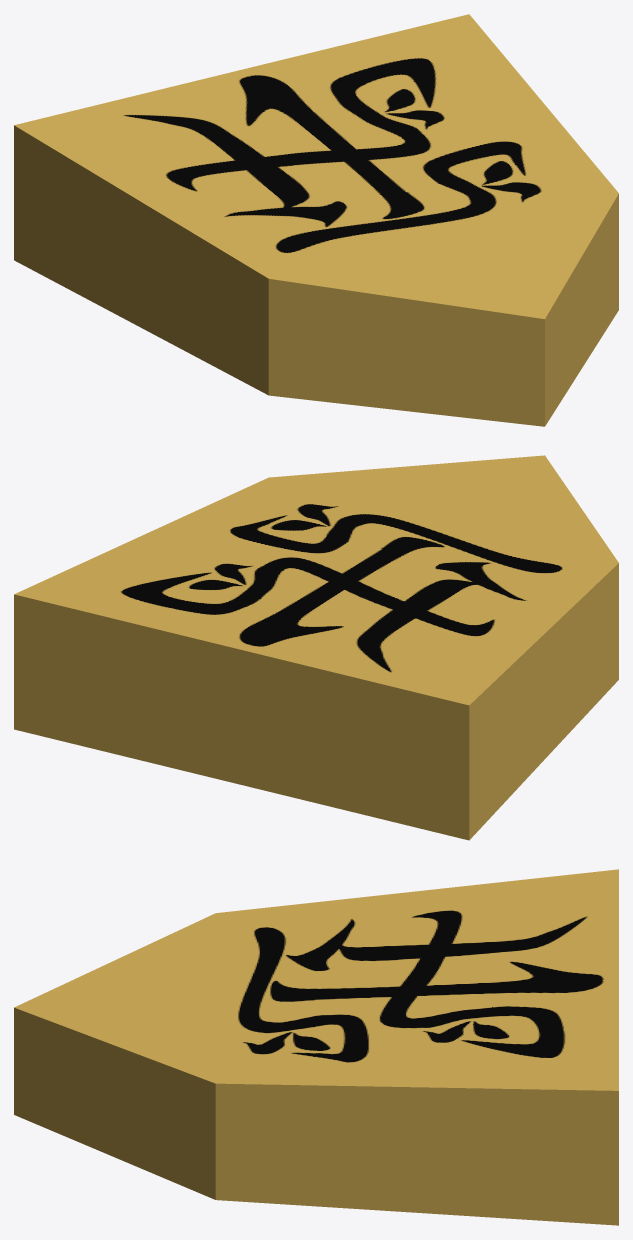
File: hisya.obj
The picture shows the model from 3 angles, top to bottom: view 1: azimuth 30°, elevation 25°; view 2: azimuth 150°, elevation 25°; view 3: azimuth 270°, elevation 25°; orthographic projection.
Visible parts, largest first — view 1: Cube.008_Cube.024; view 2: Cube.008_Cube.024; view 3: Cube.008_Cube.024.
Boxes of the visible parts, x1,y1,x2,y2 form: Cube.008_Cube.024: [14, 14, 618, 426]; Cube.008_Cube.024: [14, 455, 618, 840]; Cube.008_Cube.024: [14, 869, 618, 1225].
Bounding box in the file's own units: 2.6 × 0.7371 × 3.
